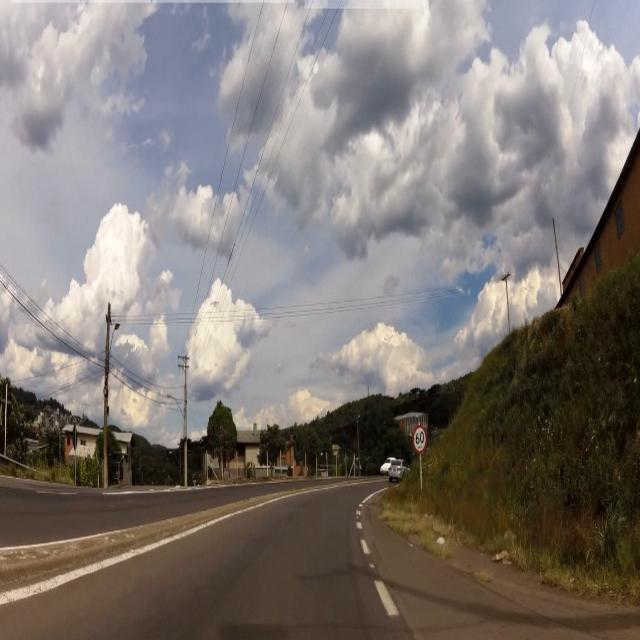R-19: (414, 421, 429, 457)
